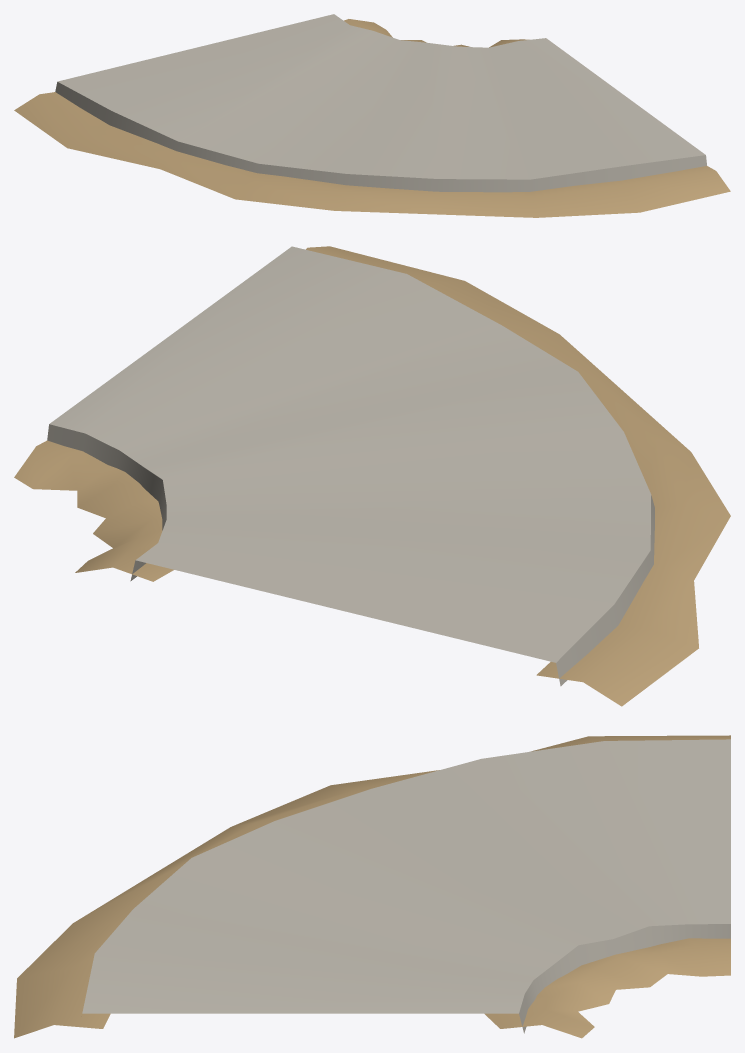
Rendered from Building_mode_L2_Roadleft003.fbx.
3 renders of one model, top to bottom at view 1: azimuth 30°, elevation 25°; view 2: azimuth 150°, elevation 25°; view 3: azimuth 270°, elevation 25°, orthographic. The views are drawn at different scales.
Parts seen in each view (by area): view 1: Building_mode_L2_Roadleft003; view 2: Building_mode_L2_Roadleft003; view 3: Building_mode_L2_Roadleft003.
Boxes of the visible parts, <box> form: Building_mode_L2_Roadleft003: <box>14,14,730,217</box>; Building_mode_L2_Roadleft003: <box>14,246,730,706</box>; Building_mode_L2_Roadleft003: <box>14,735,730,1038</box>.
Size of the model in its own units: 3.16 by 0.1528 by 3.16.
